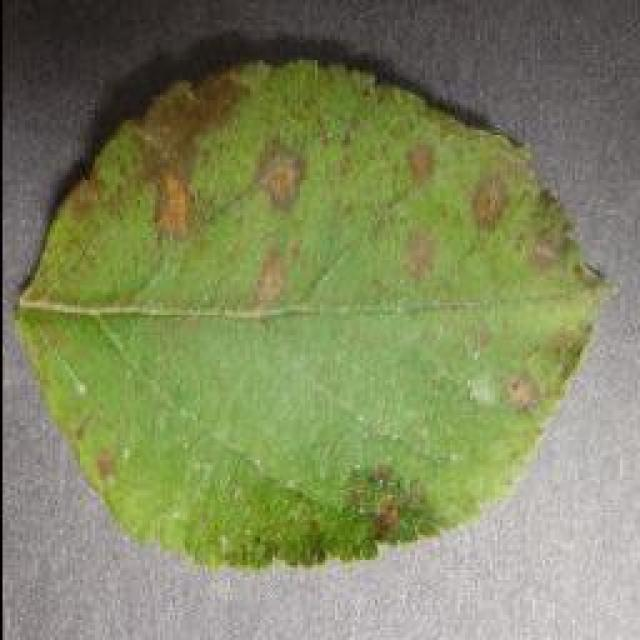apple rust disease: (12, 48, 618, 572)
